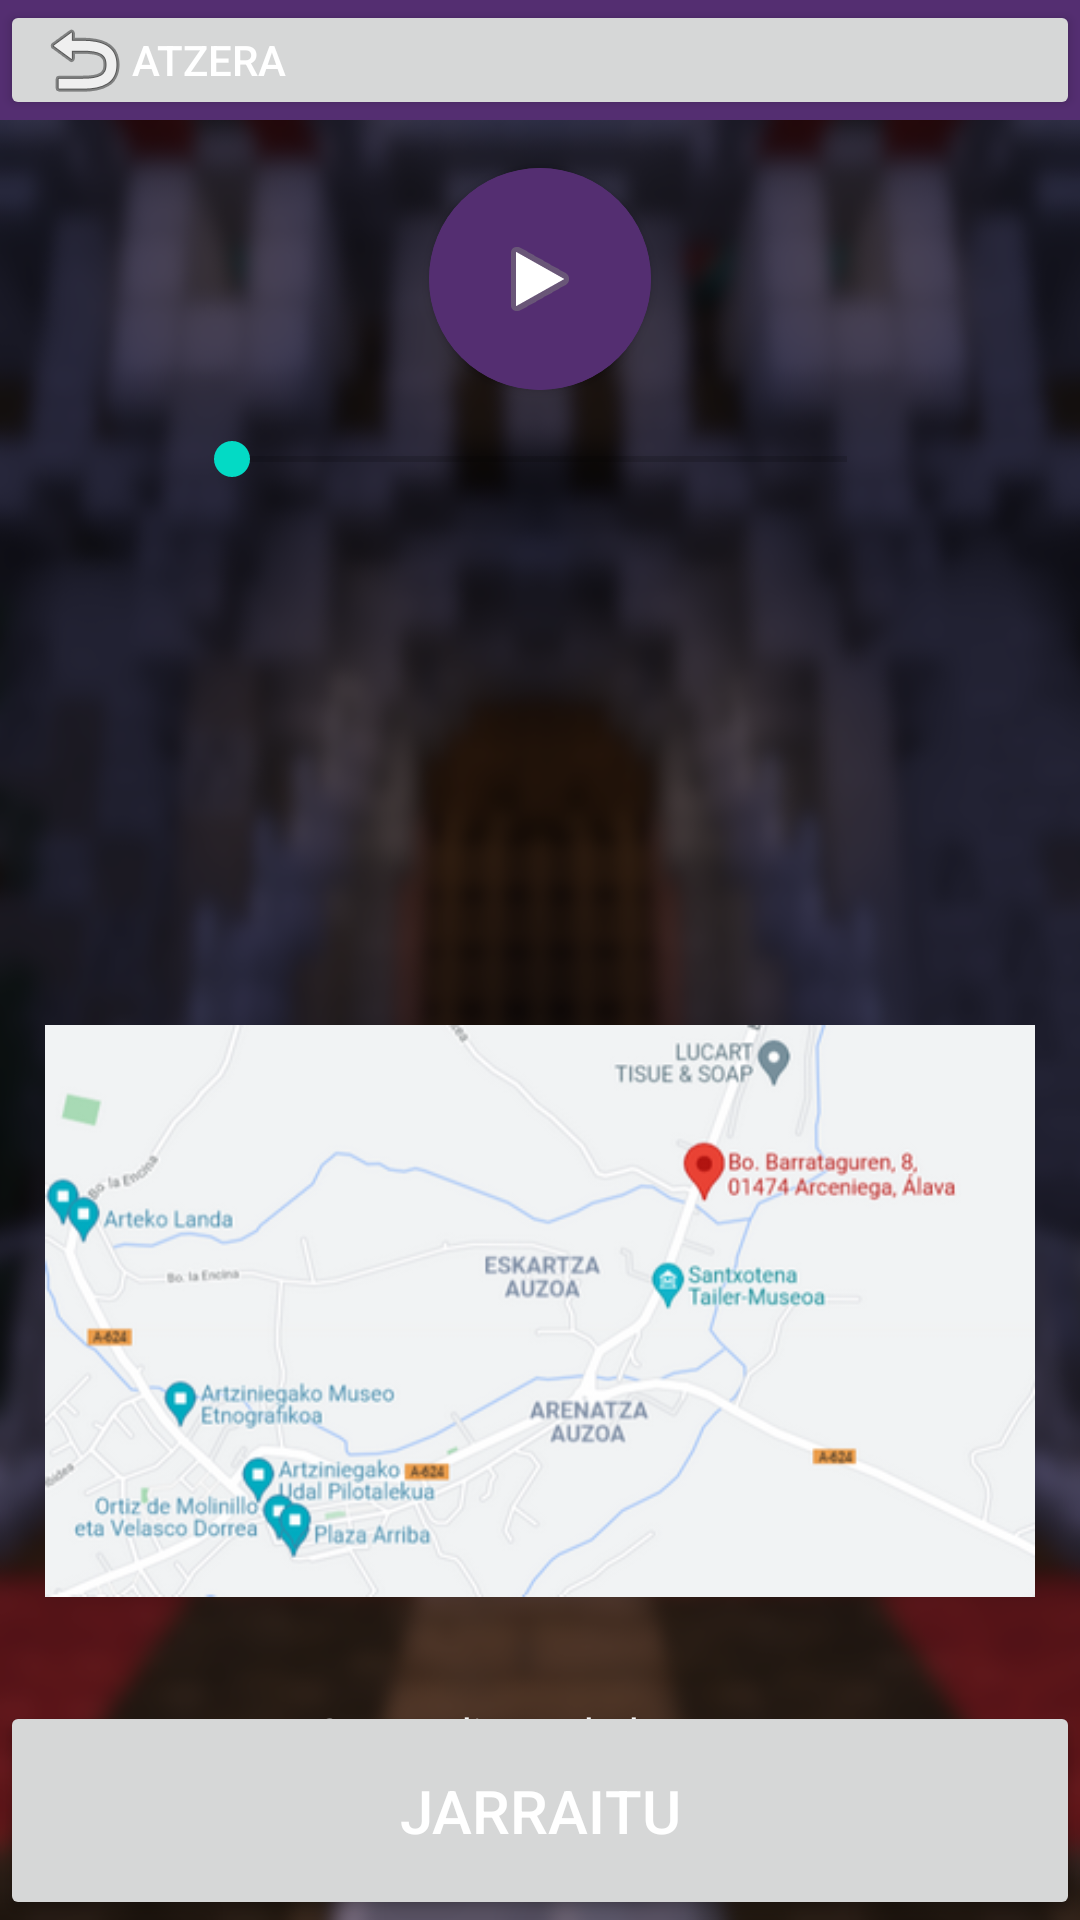

Screen size 1080*1920. Icon name, then its center in pixels as [x,y]:
play: [540,279]
